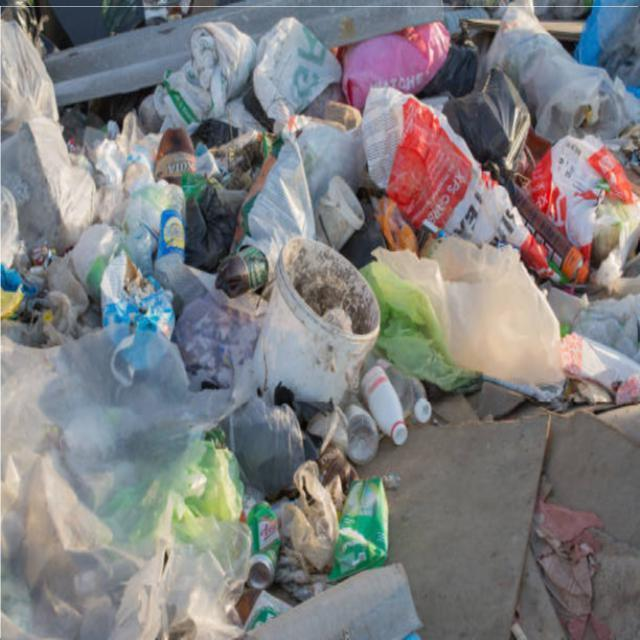Trashbag: (452, 72, 528, 168)
